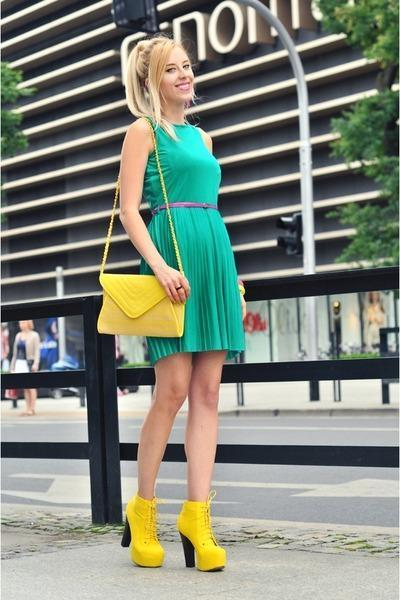bag: (97, 274, 183, 336)
dress: (139, 124, 249, 364)
pants: (121, 540, 130, 546)
shoe: (125, 496, 224, 572)
